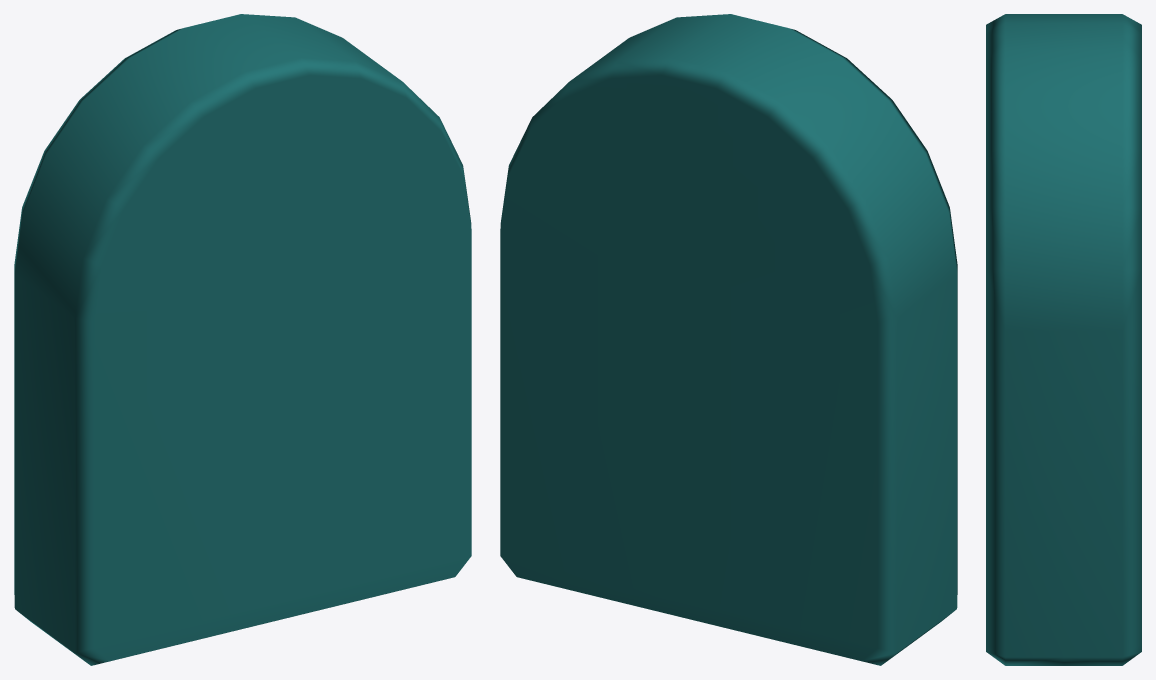
The model's file is SM_Timmys_Grave.fbx.
The picture shows the model from 3 angles, left to right: view 1: azimuth 30°, elevation 25°; view 2: azimuth 150°, elevation 25°; view 3: azimuth 270°, elevation 25°; orthographic projection. The views are drawn at different scales.
Parts seen in each view (by area): view 1: Object035; view 2: Object035; view 3: Object035.
Part boxes in pixels (box(x1,y1,x2,y2)): Object035: box(14, 14, 471, 665); Object035: box(500, 14, 957, 665); Object035: box(986, 14, 1141, 665).
Size of the model in its own units: 58.54 by 78.61 by 20.46.
